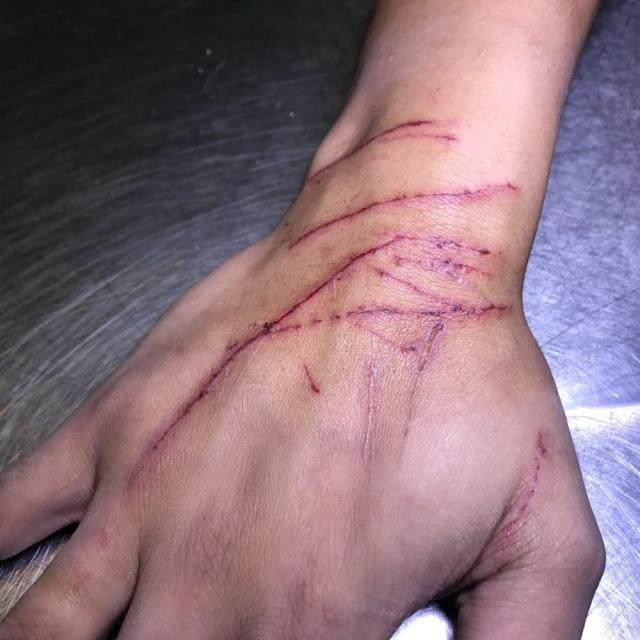Cut: (127, 218, 443, 482), (350, 235, 518, 470), (287, 178, 544, 248), (480, 429, 548, 546), (301, 124, 461, 163)
